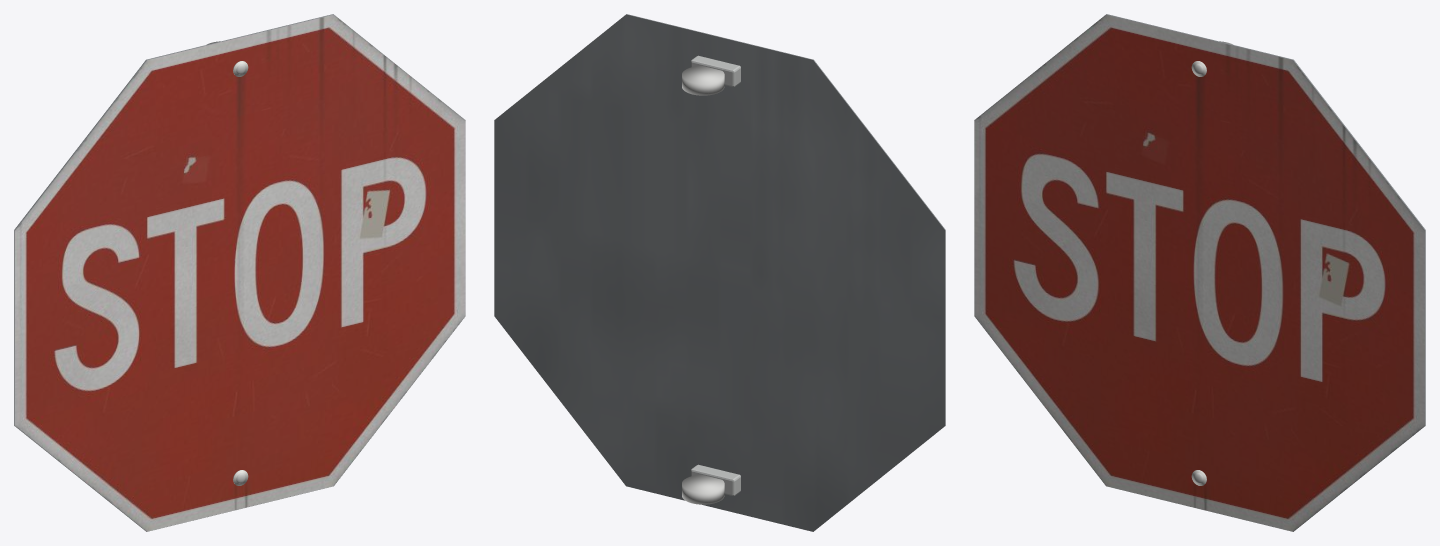
File: stop-v1.glb
3 renders of one model, left to right at view 1: azimuth 30°, elevation 25°; view 2: azimuth 150°, elevation 25°; view 3: azimuth 330°, elevation 25°, orthographic.
Visible parts, largest first — view 1: stop-v1; view 2: stop-v1; view 3: stop-v1.
Part boxes in pixels (x1,y1,x2,y2): stop-v1: (14,14,465,531); stop-v1: (494,14,945,531); stop-v1: (974,14,1425,531).
Size of the model in its own units: 0.762 by 0.762 by 0.0871.
Materials: 1 (1 with a texture image).
